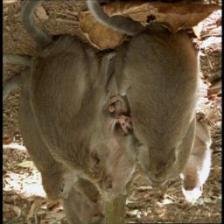monkey: (181, 167, 208, 204), (97, 172, 126, 200), (51, 168, 77, 199), (114, 111, 136, 138), (84, 207, 108, 224)
